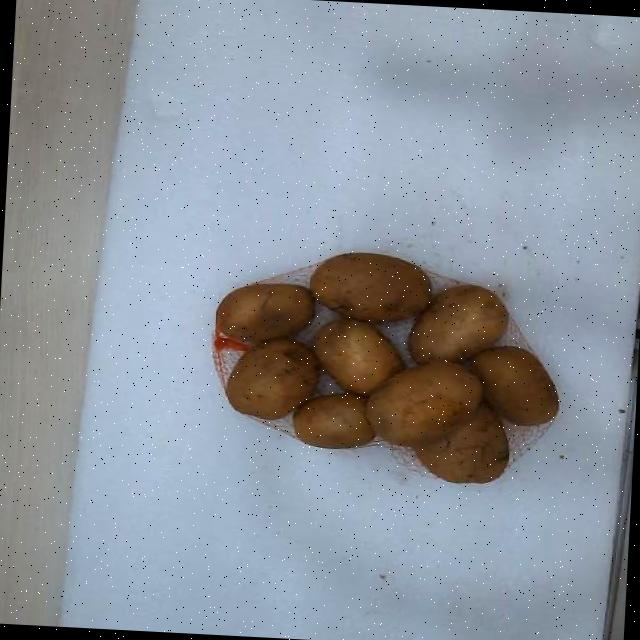potato: (365, 359, 483, 446), (311, 252, 431, 320), (409, 284, 507, 363), (413, 402, 508, 483), (226, 338, 319, 418), (313, 320, 403, 395), (471, 347, 557, 424), (218, 284, 313, 342), (293, 393, 374, 446)
